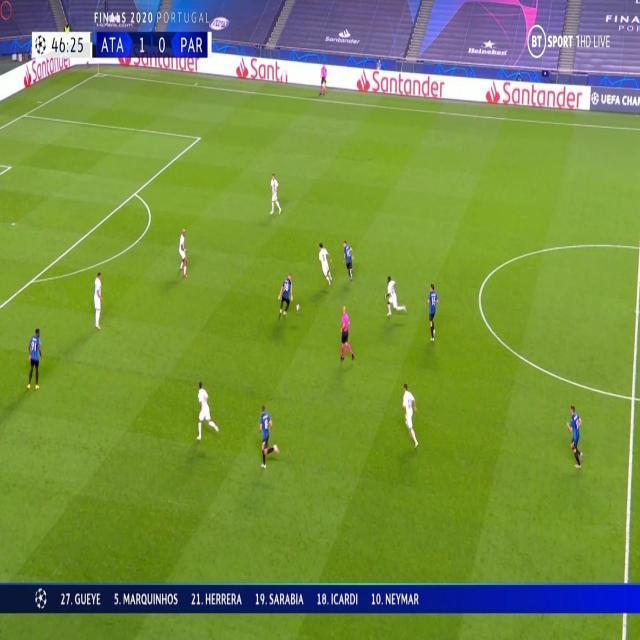ball: (295, 301, 301, 312)
player: (194, 378, 219, 441), (401, 381, 420, 449), (257, 401, 276, 468), (567, 401, 584, 470), (26, 324, 43, 391), (424, 279, 440, 340), (383, 275, 405, 319), (316, 240, 333, 286), (277, 273, 294, 319), (92, 268, 104, 330), (176, 226, 190, 278), (267, 170, 282, 216), (342, 239, 355, 281)
referee: (338, 304, 354, 364), (319, 60, 329, 96)
